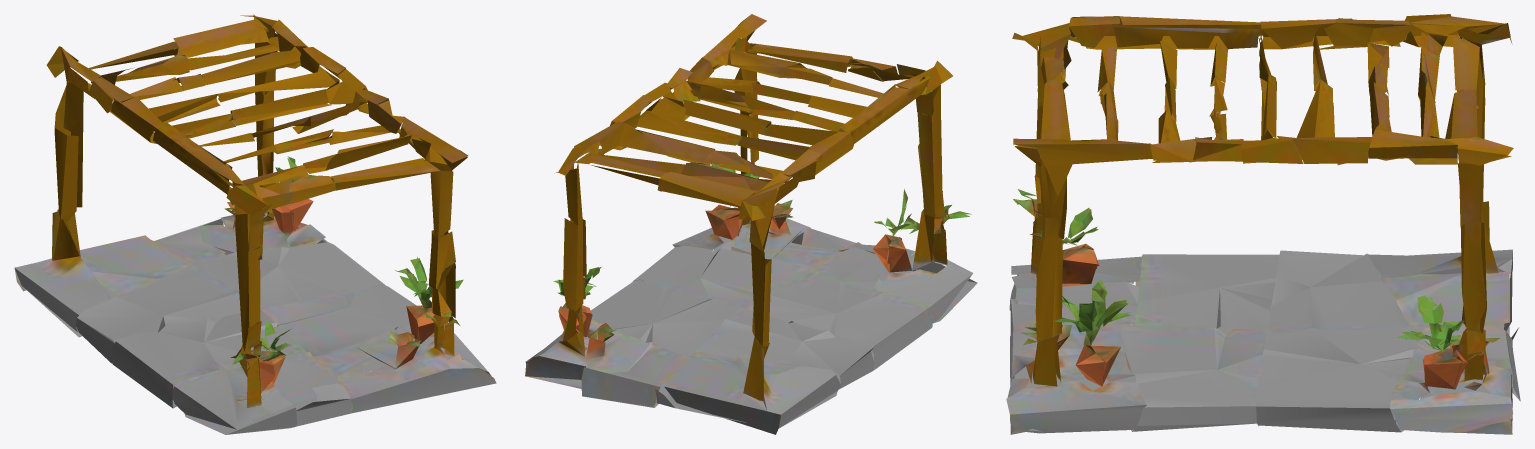
File: loc_sa_bld_medgarden.glb
The picture shows the model from 3 angles, left to right: view 1: azimuth 30°, elevation 25°; view 2: azimuth 150°, elevation 25°; view 3: azimuth 270°, elevation 25°; orthographic projection. The views are drawn at different scales.
Visible parts, largest first — view 1: tripo_node_1828e651-d70d-4373-a80e-4e8b450f6515; view 2: tripo_node_1828e651-d70d-4373-a80e-4e8b450f6515; view 3: tripo_node_1828e651-d70d-4373-a80e-4e8b450f6515.
Boxes of the visible parts, bbox=[...] form: tripo_node_1828e651-d70d-4373-a80e-4e8b450f6515: bbox=[14, 14, 496, 434]; tripo_node_1828e651-d70d-4373-a80e-4e8b450f6515: bbox=[525, 14, 977, 434]; tripo_node_1828e651-d70d-4373-a80e-4e8b450f6515: bbox=[1006, 14, 1520, 434].
Size of the model in its own units: 1.31 by 1.11 by 1.8.
Materials: 1 (1 with a texture image).
